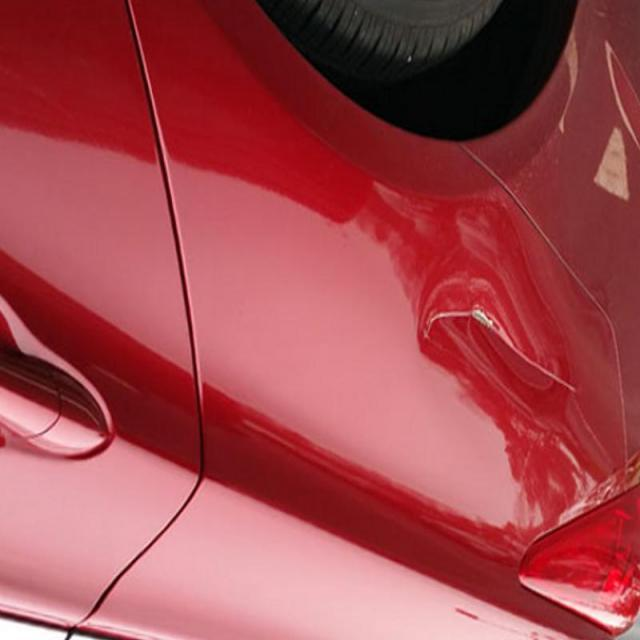dent: (414, 294, 610, 414)
